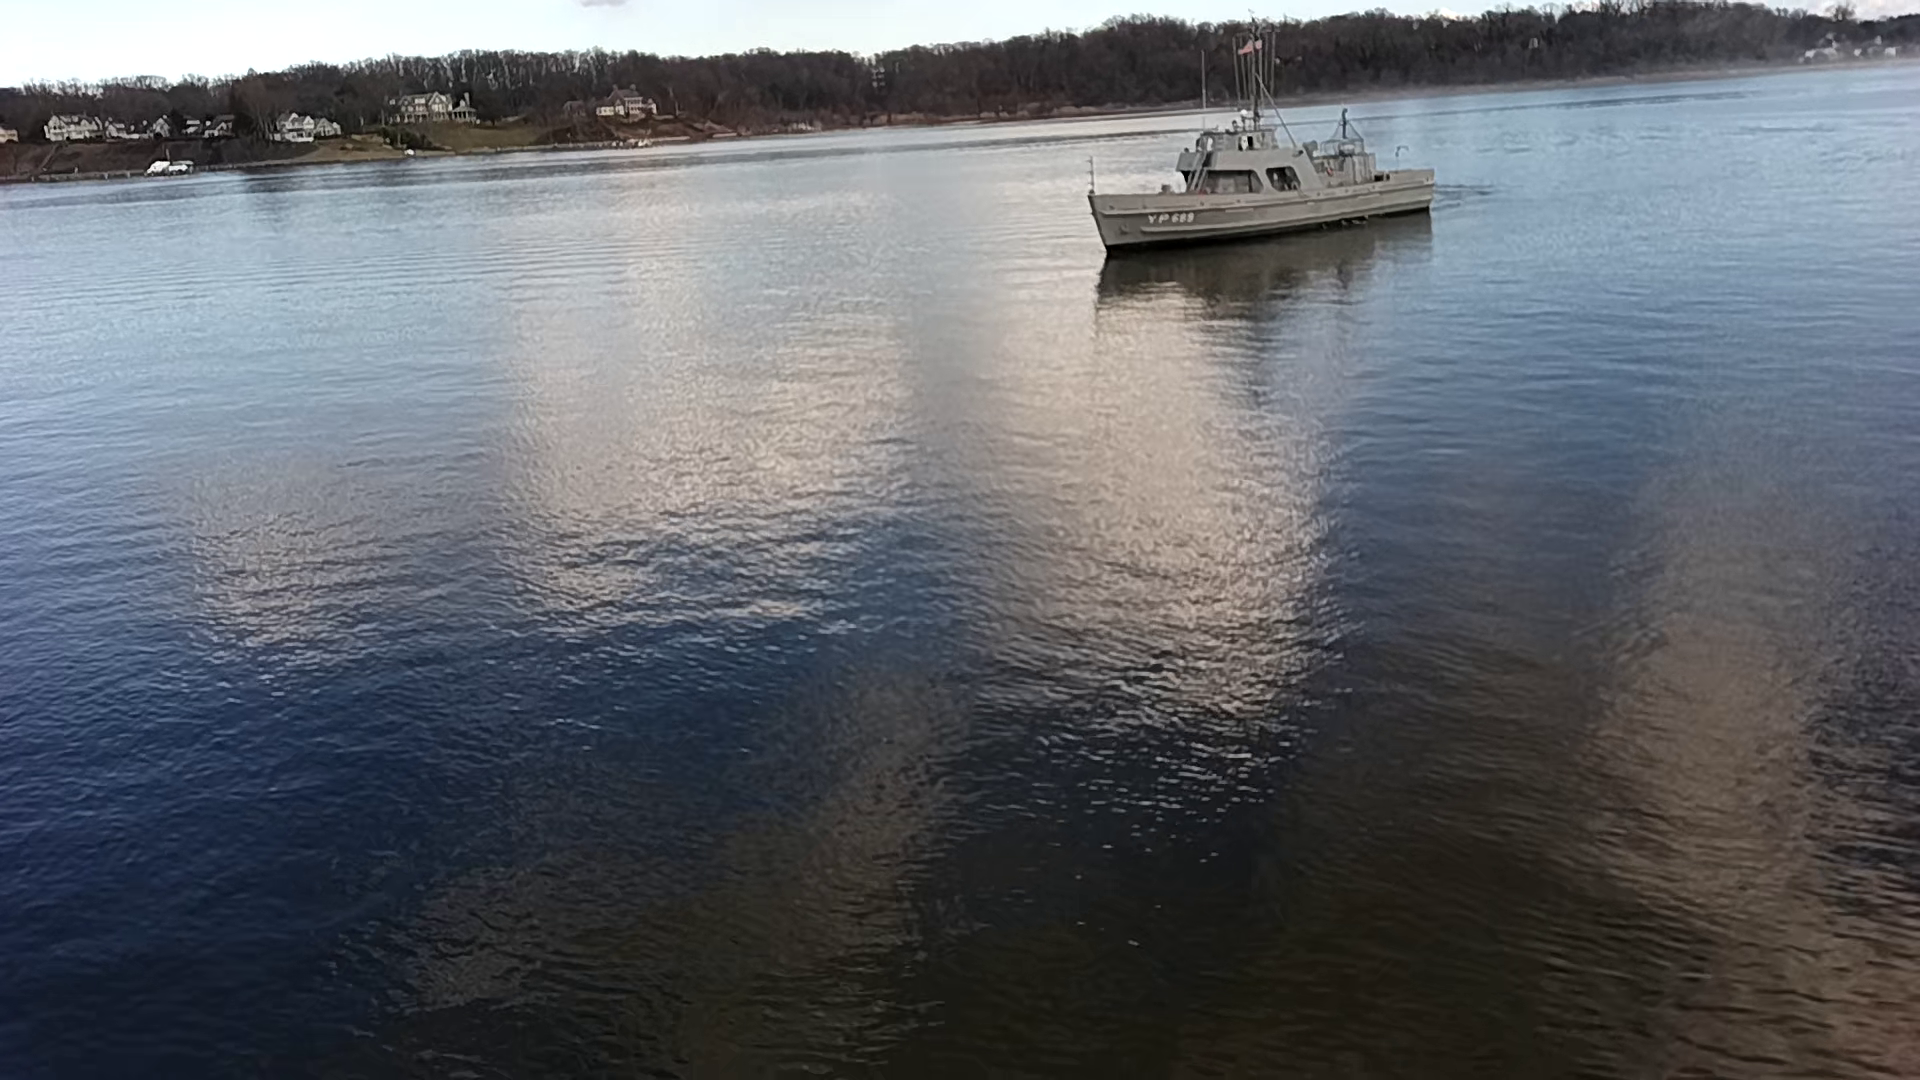YP689: (1087, 11, 1436, 255)
